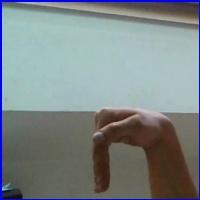del: (86, 102, 176, 196)
